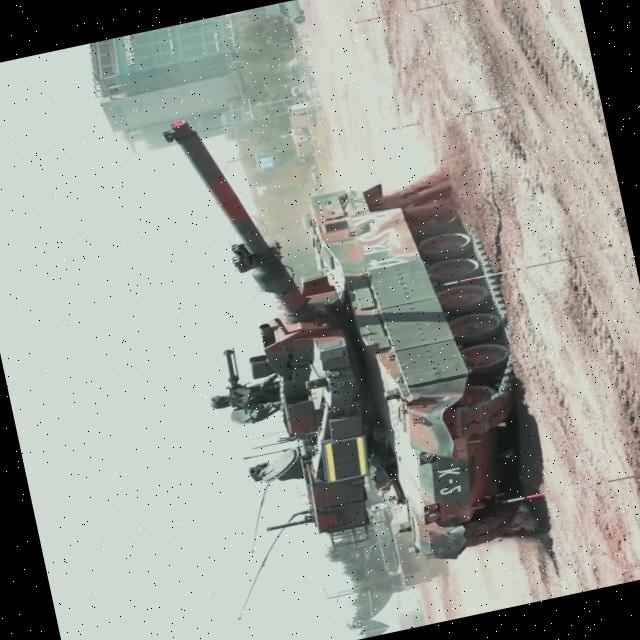korea tank: (146, 61, 556, 604)
